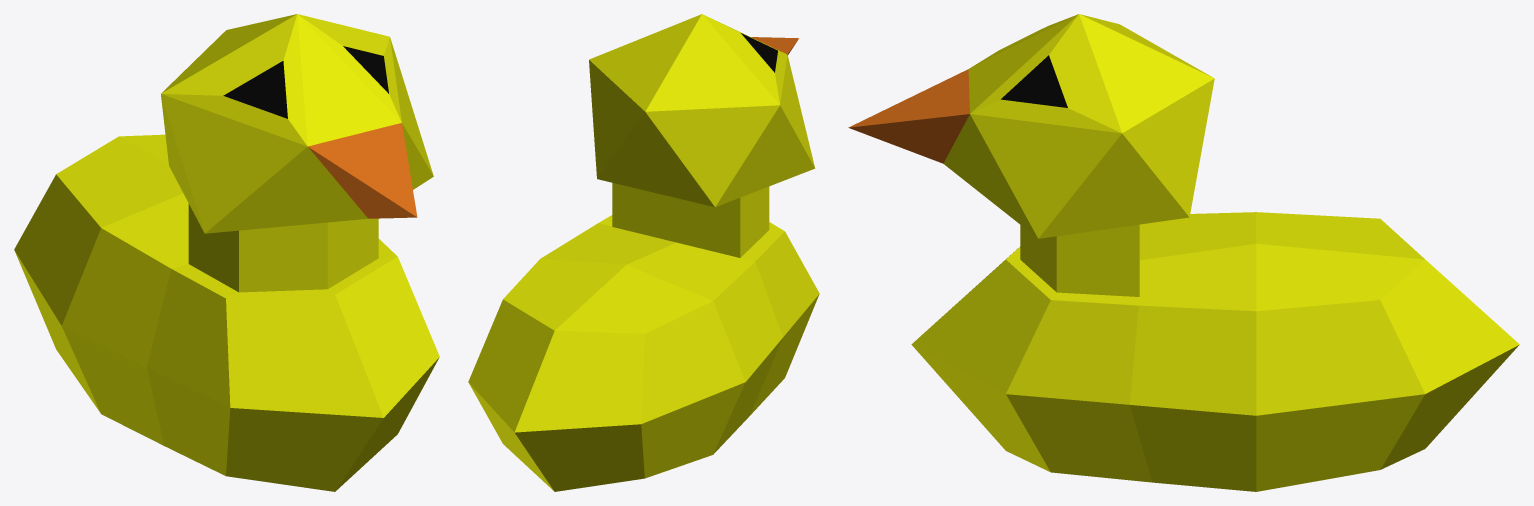
Rendered from Duck.fbx.
The picture shows the model from 3 angles, left to right: view 1: azimuth 30°, elevation 25°; view 2: azimuth 150°, elevation 25°; view 3: azimuth 270°, elevation 25°; orthographic projection. The views are drawn at different scales.
Visible parts, largest first — view 1: Duck; view 2: Duck; view 3: Duck.
Boxes of the visible parts, x1,y1,x2,y2 form: Duck: [14, 14, 439, 491]; Duck: [468, 14, 819, 491]; Duck: [848, 14, 1519, 491].
Bounding box in the file's own units: 45.89 × 71.09 × 95.36.
